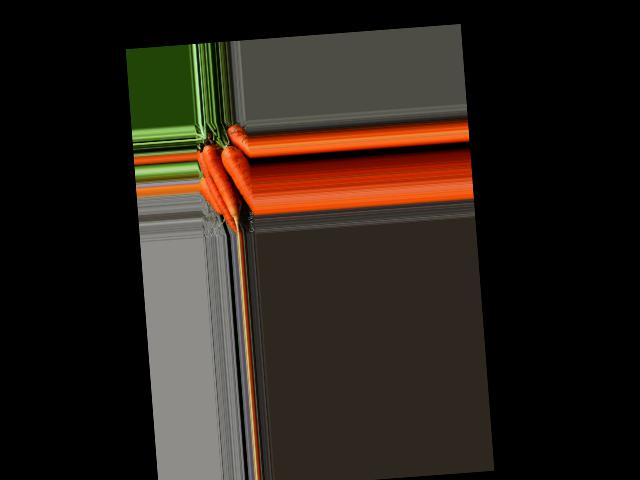carrot: (227, 138, 251, 167)
